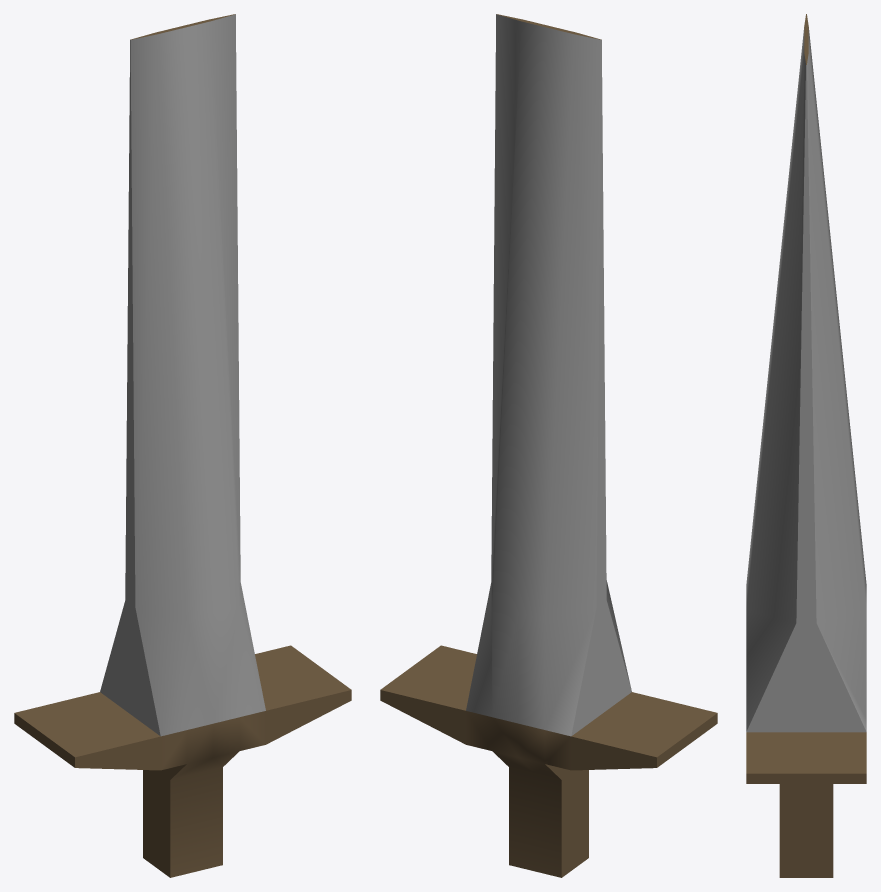
File: sword.fbx
3 renders of one model, left to right at view 1: azimuth 30°, elevation 25°; view 2: azimuth 150°, elevation 25°; view 3: azimuth 270°, elevation 25°, orthographic.
Visible parts, largest first — view 1: pCube2; view 2: pCube2; view 3: pCube2.
Boxes of the visible parts, x1,y1,x2,y2 form: pCube2: [14, 14, 351, 877]; pCube2: [380, 14, 717, 877]; pCube2: [746, 14, 866, 877].
Size of the model in its own units: 2.63 by 7.58 by 1.
